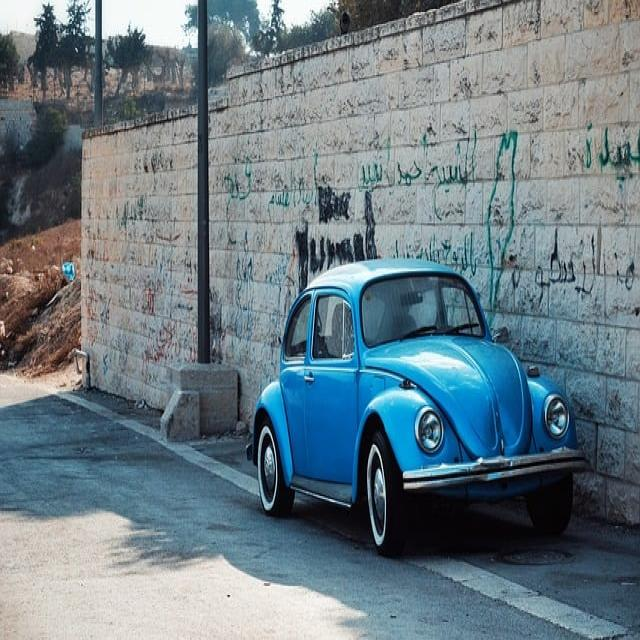car: (250, 261, 576, 563)
